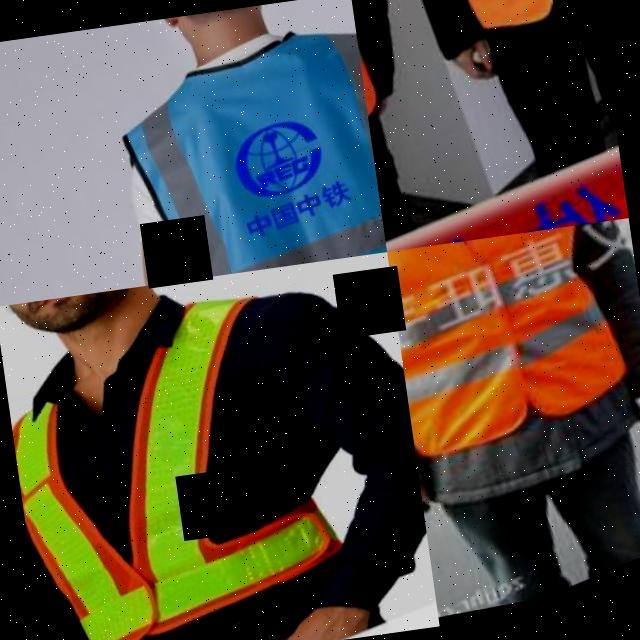vest: (0, 294, 370, 640), (108, 15, 388, 286), (387, 220, 640, 477), (403, 0, 603, 59)
